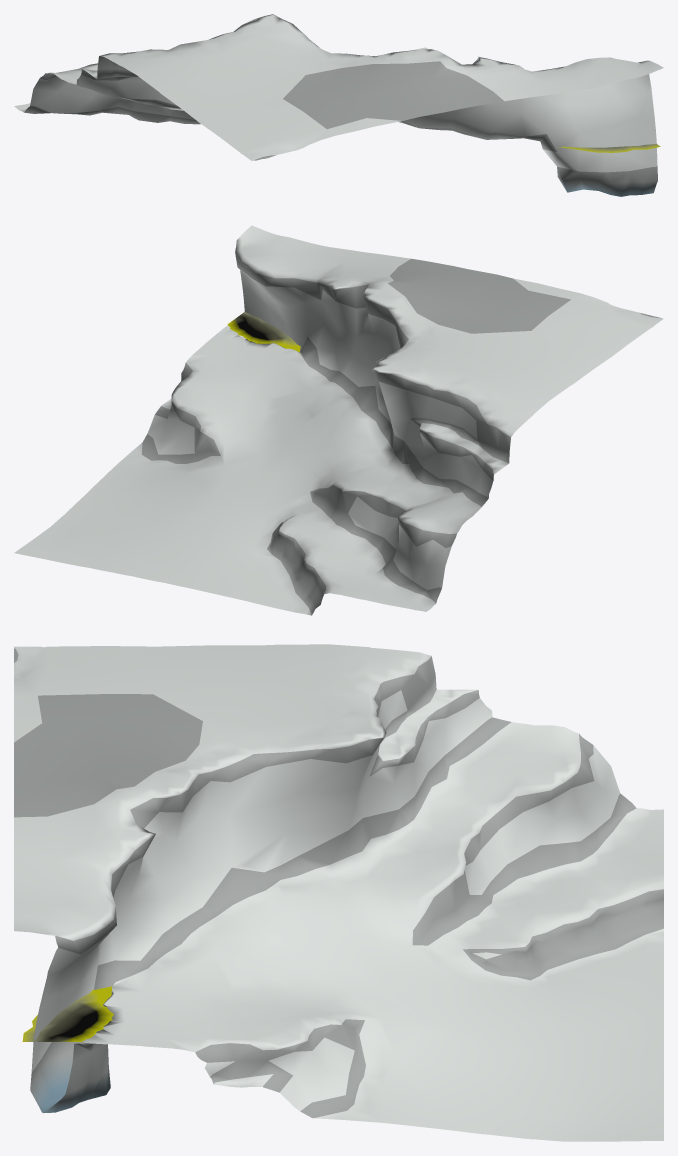
3 renders of one model, top to bottom at view 1: azimuth 30°, elevation 25°; view 2: azimuth 150°, elevation 25°; view 3: azimuth 270°, elevation 25°, orthographic. The views are drawn at different scales.
Parts seen in each view (by area): view 1: G:\FFXIV-MapTools\exports\r2f1\bg\ex1\01_roc_r2\fld\r2f1\bgp (×7); view 2: G:\FFXIV-MapTools\exports\r2f1\bg\ex1\01_roc_r2\fld\r2f1\bgp (×6); view 3: G:\FFXIV-MapTools\exports\r2f1\bg\ex1\01_roc_r2\fld\r2f1\bgp (×7).
Boxes of the visible parts, box(x1,y1,x2,y2) form: G:\FFXIV-MapTools\exports\r2f1\bg\ex1\01_roc_r2\fld\r2f1\bgp (×7): box(14, 14, 663, 196); G:\FFXIV-MapTools\exports\r2f1\bg\ex1\01_roc_r2\fld\r2f1\bgp (×6): box(14, 225, 663, 615); G:\FFXIV-MapTools\exports\r2f1\bg\ex1\01_roc_r2\fld\r2f1\bgp (×7): box(14, 644, 663, 1141).
Bounding box in the file's own units: 128 × 51.12 × 128.
